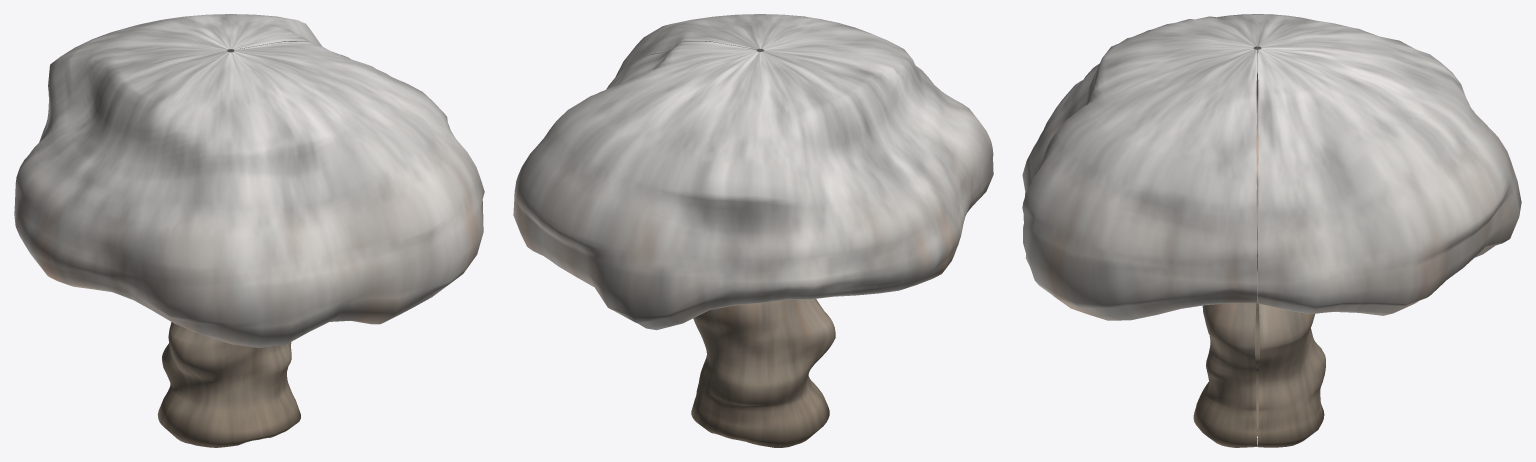
File: MushroomCloud.obj
3 renders of one model, left to right at view 1: azimuth 30°, elevation 25°; view 2: azimuth 150°, elevation 25°; view 3: azimuth 270°, elevation 25°, orthographic.
Size of the model in its own units: 1.04 by 1 by 1.16.
1 material, 1 textured.
